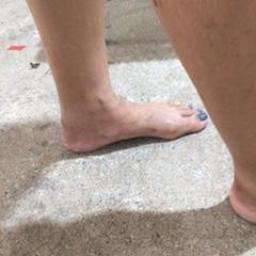Medial View -Left Foot-: (49, 72, 209, 166)
